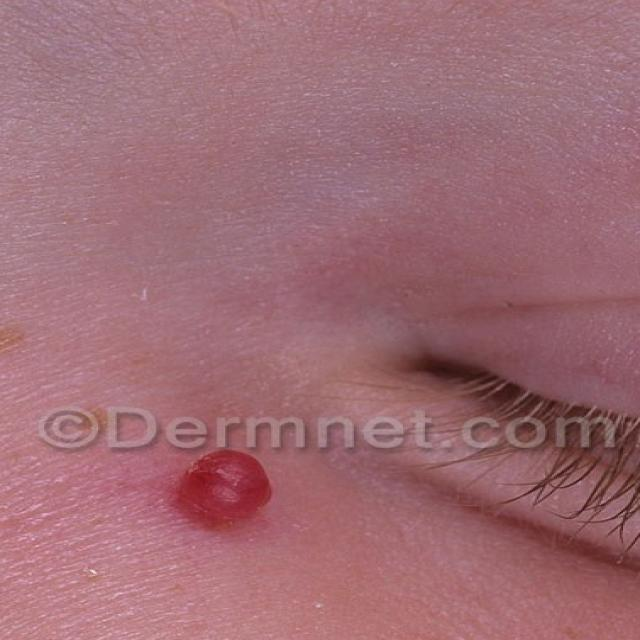Vascular Tumors: (119, 400, 295, 526)
